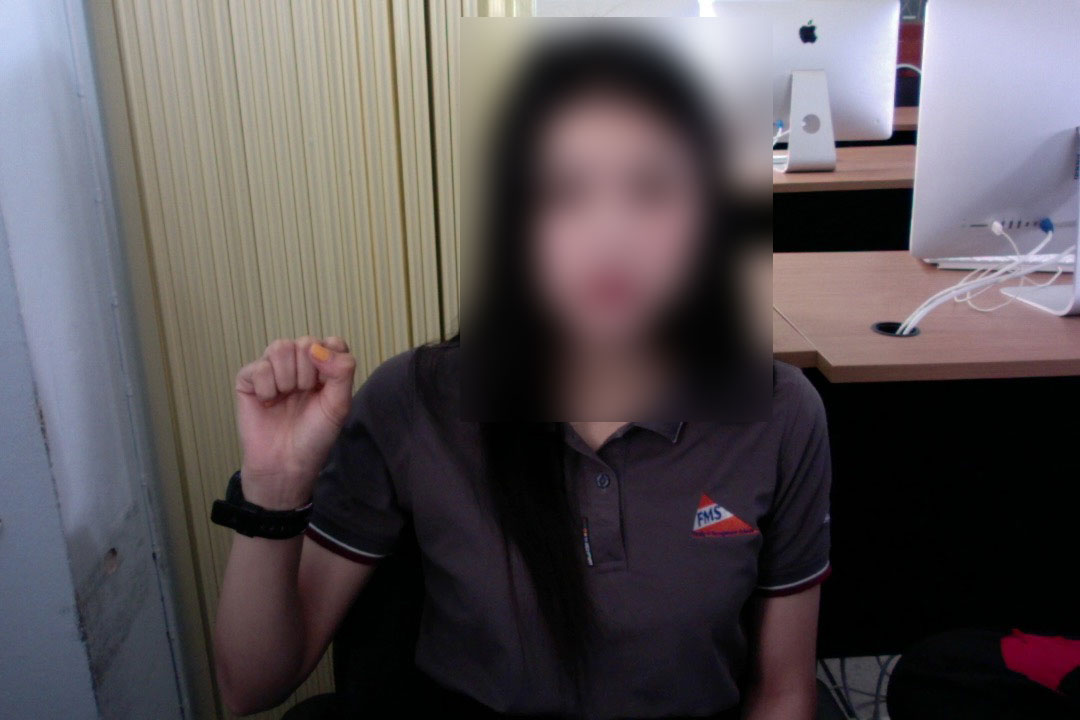sor: (230, 324, 360, 491)
